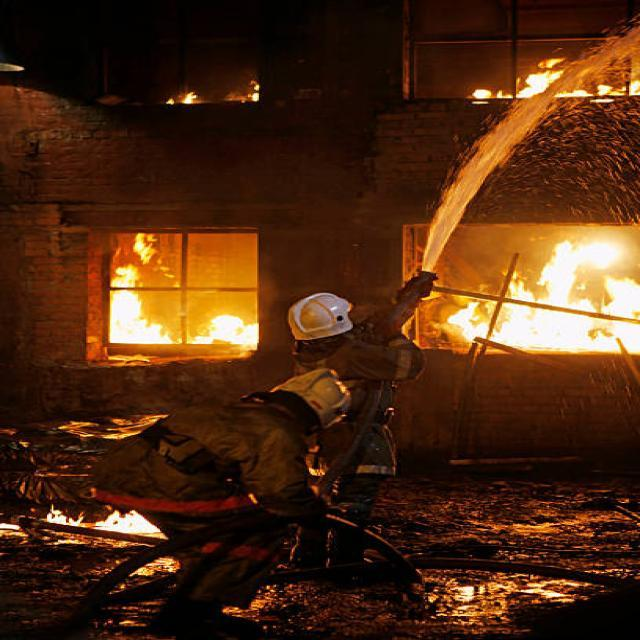Fire: (460, 234, 640, 350), (110, 234, 256, 364), (32, 499, 164, 547)
